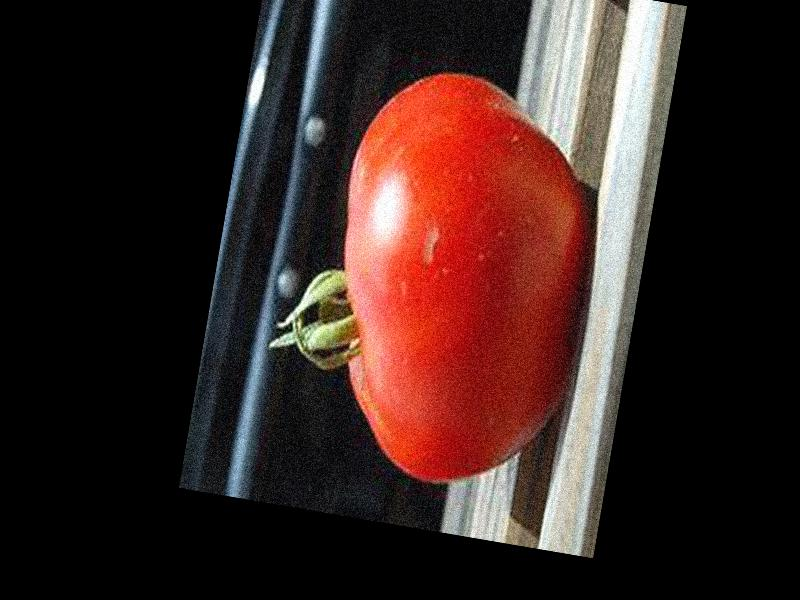Tomato: (254, 51, 612, 499)
